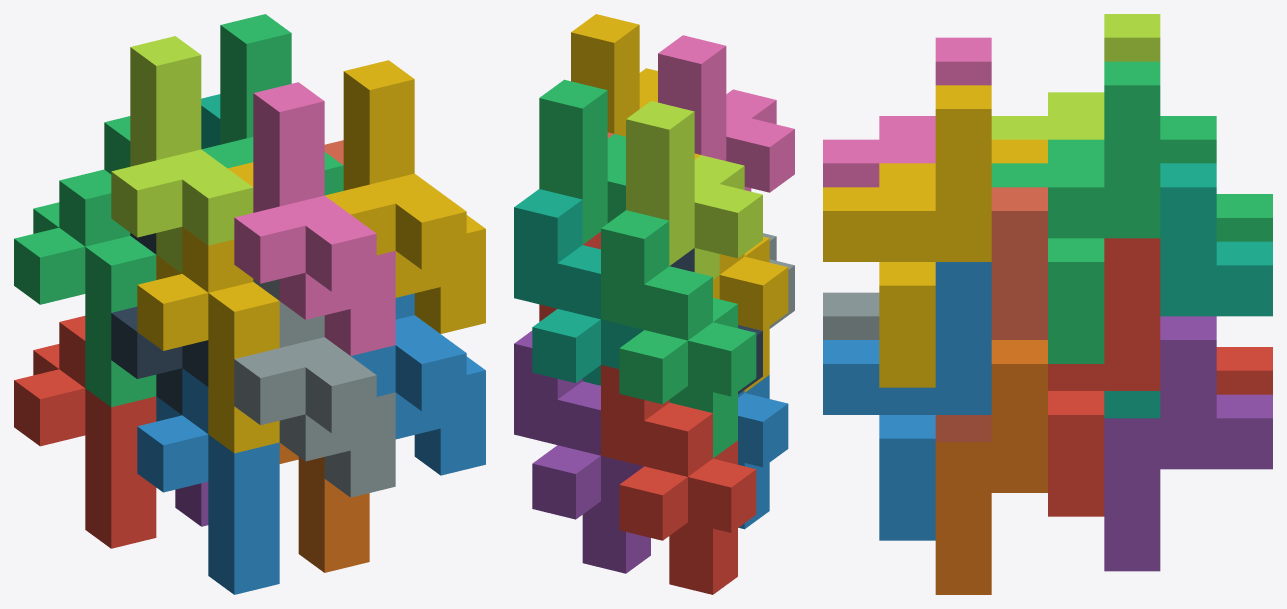
Rendered from tiling.obj.
3 views of the same model, side by side, from view 1: azimuth 30°, elevation 25°; view 2: azimuth 150°, elevation 25°; view 3: azimuth 270°, elevation 25° (orthographic). The views are drawn at different scales.
Visible parts, largest first — view 1: copy_2_domain_4, copy_2_domain_8, copy_2_domain_3, copy_2_domain_2, copy_1_domain_3, copy_1_domain_4, copy_1_domain_2, copy_1_domain_1, copy_2_domain_6, copy_2_domain_7, copy_1_domain_6, copy_2_domain_1 (+2 smaller); view 2: copy_1_domain_3, copy_1_domain_1, copy_1_domain_5, copy_2_domain_3, copy_1_domain_7, copy_2_domain_4, copy_2_domain_7, copy_2_domain_8, copy_1_domain_4, copy_1_domain_2, copy_2_domain_1, copy_2_domain_2; view 3: copy_2_domain_8, copy_2_domain_7, copy_1_domain_5, copy_2_domain_6, copy_2_domain_5, copy_1_domain_6, copy_1_domain_7, copy_1_domain_8, copy_2_domain_4, copy_2_domain_3, copy_1_domain_3, copy_1_domain_1 (+2 smaller).
Part boxes in pixels (<box>): copy_2_domain_4: <box>234,82,395,355</box>; copy_2_domain_8: <box>325,60,485,333</box>; copy_2_domain_3: <box>111,36,253,273</box>; copy_2_domain_2: <box>234,279,395,497</box>; copy_1_domain_3: <box>14,116,156,407</box>; copy_1_domain_4: <box>137,162,279,453</box>; copy_1_domain_2: <box>137,368,279,594</box>; copy_1_domain_1: <box>14,316,156,548</box>; copy_2_domain_6: <box>351,293,485,475</box>; copy_2_domain_7: <box>202,14,343,195</box>; copy_1_domain_6: <box>279,443,369,572</box>; copy_2_domain_1: <box>111,233,208,414</box>; copy_1_domain_3: <box>601,210,756,458</box>; copy_1_domain_1: <box>601,365,756,594</box>; copy_1_domain_5: <box>514,330,650,573</box>; copy_2_domain_3: <box>626,101,762,279</box>; copy_1_domain_7: <box>514,189,643,385</box>; copy_2_domain_4: <box>658,35,794,192</box>; copy_2_domain_7: <box>539,79,625,244</box>; copy_2_domain_8: <box>571,14,657,136</box>; copy_1_domain_4: <box>694,153,788,392</box>; copy_1_domain_2: <box>738,375,788,529</box>; copy_2_domain_1: <box>670,248,762,394</box>; copy_2_domain_2: <box>763,233,794,328</box>; copy_2_domain_8: <box>823,85,991,387</box>; copy_2_domain_7: <box>991,61,1160,363</box>; copy_1_domain_5: <box>1104,316,1272,571</box>; copy_2_domain_6: <box>823,262,991,540</box>; copy_2_domain_5: <box>1048,238,1160,516</box>; copy_1_domain_6: <box>935,340,1047,594</box>; copy_1_domain_7: <box>1104,163,1272,418</box>; copy_1_domain_8: <box>935,187,1047,441</box>; copy_2_domain_4: <box>823,37,991,187</box>; copy_2_domain_3: <box>991,14,1160,139</box>; copy_1_domain_3: <box>1160,116,1272,241</box>; copy_1_domain_1: <box>1216,347,1272,394</box>.
Size of the model in its own units: 7 by 10 by 8.
